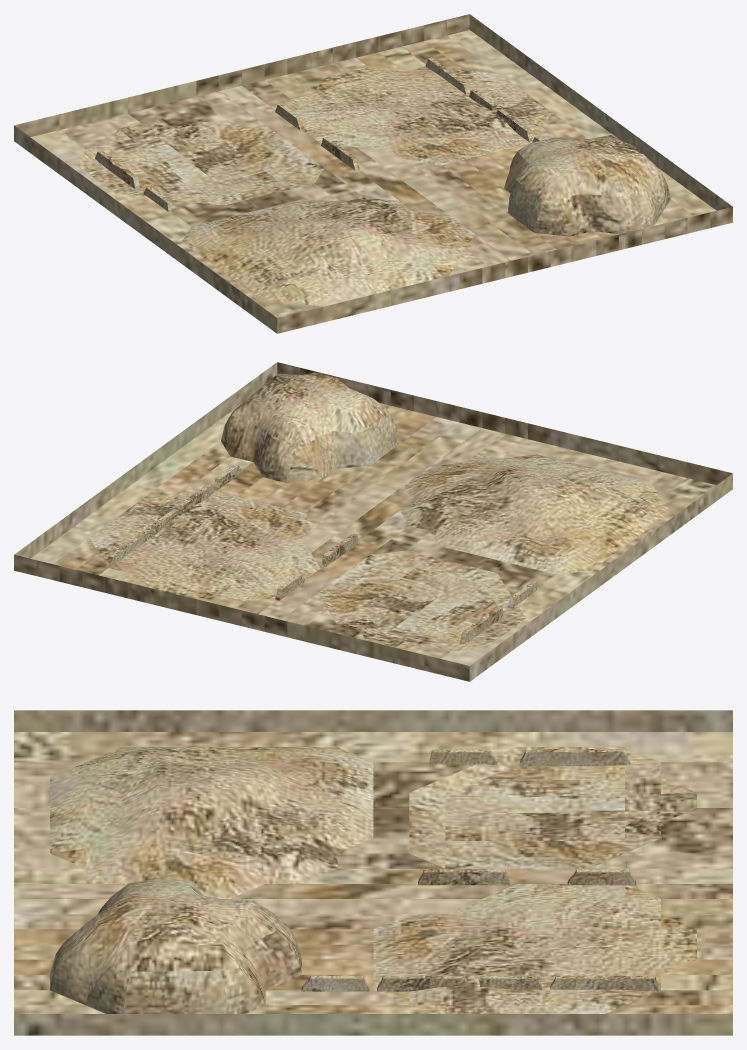
Rendered from map20_chk.fbx.
The picture shows the model from 3 angles, top to bottom: view 1: azimuth 30°, elevation 25°; view 2: azimuth 150°, elevation 25°; view 3: azimuth 270°, elevation 25°; orthographic projection. The views are drawn at different scales.
Visible parts, largest first — view 1: map20_chk:Layer1, map20_chk:Layer7, map20_chk:Layer2, map20_chk:Layer3, map20_chk:Layer6, map20_chk:Layer5; view 2: map20_chk:Layer1, map20_chk:Layer7, map20_chk:Layer2, map20_chk:Layer3, map20_chk:Layer6, map20_chk:Layer5; view 3: map20_chk:Layer1, map20_chk:Layer7, map20_chk:Layer2, map20_chk:Layer3, map20_chk:Layer6, map20_chk:Layer5.
Boxes of the visible parts, bbox=[...] form: map20_chk:Layer1: bbox=[14, 14, 732, 333]; map20_chk:Layer7: bbox=[181, 197, 478, 306]; map20_chk:Layer2: bbox=[286, 66, 551, 165]; map20_chk:Layer3: bbox=[76, 121, 324, 205]; map20_chk:Layer6: bbox=[504, 135, 670, 236]; map20_chk:Layer5: bbox=[95, 57, 544, 211]; map20_chk:Layer1: bbox=[14, 362, 732, 681]; map20_chk:Layer7: bbox=[400, 453, 670, 574]; map20_chk:Layer2: bbox=[89, 491, 320, 601]; map20_chk:Layer3: bbox=[317, 550, 525, 651]; map20_chk:Layer6: bbox=[221, 372, 397, 482]; map20_chk:Layer5: bbox=[106, 464, 537, 644]; map20_chk:Layer1: bbox=[14, 710, 732, 1035]; map20_chk:Layer7: bbox=[50, 747, 373, 898]; map20_chk:Layer2: bbox=[373, 884, 696, 1013]; map20_chk:Layer3: bbox=[409, 747, 696, 868]; map20_chk:Layer6: bbox=[50, 878, 301, 1013]; map20_chk:Layer5: bbox=[301, 749, 660, 991].
Bounding box in the file's own units: 6 × 0.7298 × 6.
1 material, 1 textured.
